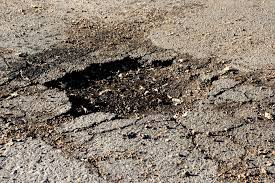potholes: (52, 63, 189, 119)
